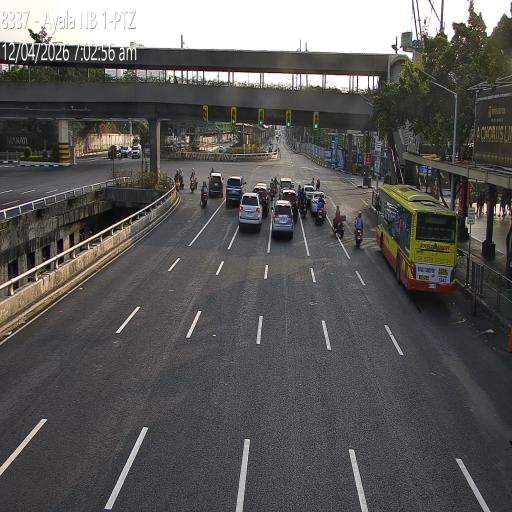Car: (238, 192, 263, 232), (271, 200, 295, 239), (224, 175, 244, 207), (252, 184, 270, 216), (280, 188, 298, 218), (310, 190, 327, 217), (208, 171, 224, 198), (279, 177, 294, 201), (303, 184, 315, 207), (108, 144, 121, 159), (118, 144, 130, 158), (131, 144, 142, 159)
Motor: (332, 204, 346, 238), (354, 213, 364, 246), (315, 202, 325, 226), (318, 192, 326, 222), (200, 180, 209, 205), (178, 166, 186, 190), (173, 168, 181, 191), (302, 190, 308, 218), (296, 182, 302, 209), (270, 182, 277, 203), (190, 175, 197, 193), (190, 168, 196, 188), (273, 175, 279, 195)
Not Accident: (272, 176, 298, 236), (239, 183, 268, 232), (297, 181, 328, 224), (200, 165, 224, 207), (188, 166, 198, 193), (174, 163, 184, 190), (269, 175, 278, 203)
